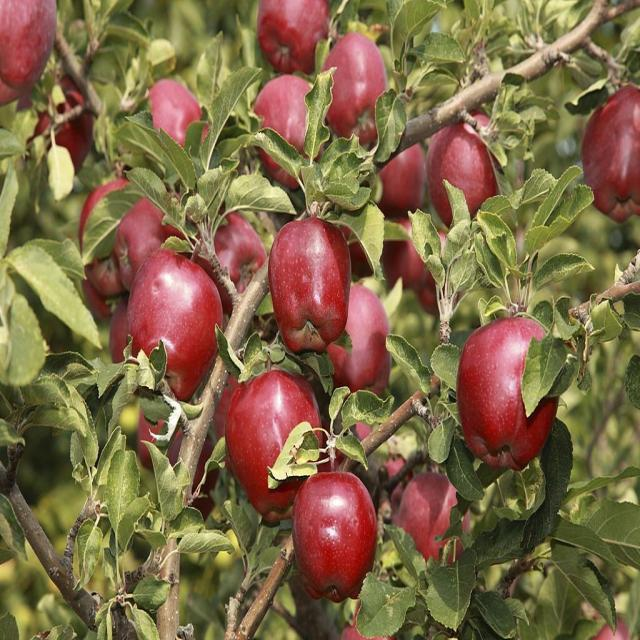Red Apple: (458, 315, 557, 475), (129, 245, 226, 377), (231, 372, 324, 502), (272, 215, 352, 355), (299, 470, 378, 600), (83, 181, 161, 286), (254, 71, 327, 183), (326, 274, 389, 401), (322, 27, 389, 142), (198, 208, 273, 306), (434, 115, 500, 222), (583, 91, 640, 213), (142, 78, 203, 171), (1, 1, 57, 101), (39, 75, 95, 173), (407, 472, 469, 558), (257, 1, 327, 75), (390, 224, 455, 303), (134, 394, 192, 482), (373, 135, 425, 213), (192, 445, 228, 511), (381, 448, 408, 518), (341, 610, 389, 640), (341, 415, 376, 455), (589, 608, 631, 640)
